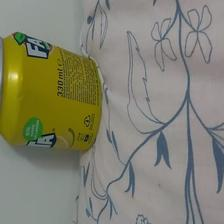Metal: (0, 31, 102, 152)
